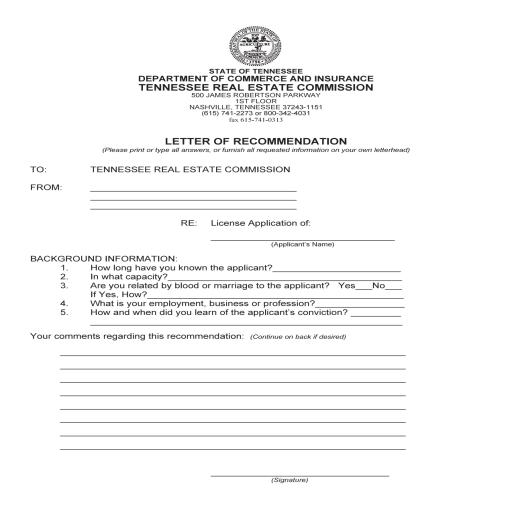Signature: (268, 477, 315, 485)
free_text: (212, 215, 322, 230), (336, 280, 412, 292), (26, 180, 65, 191)
